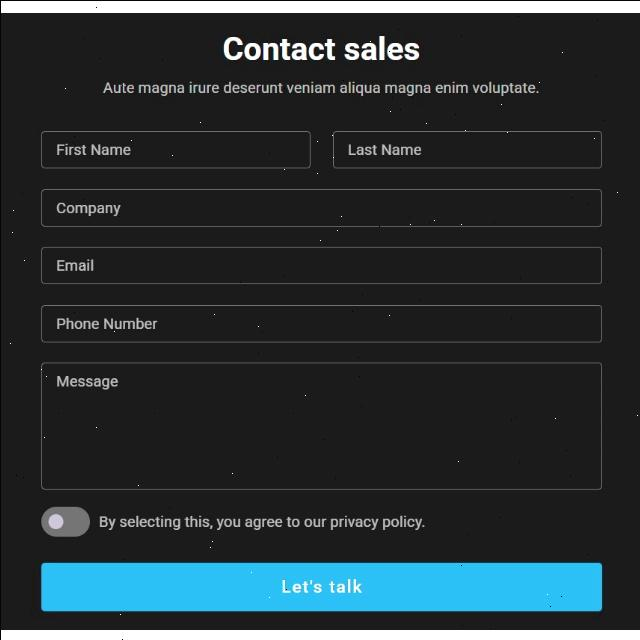QLabel: (100, 78, 540, 95), (223, 34, 419, 62), (97, 513, 425, 529), (280, 576, 362, 594)
VBtn: (39, 560, 602, 612)
VSwitch: (40, 505, 90, 535)
VTextField: (38, 301, 604, 343), (39, 185, 604, 227), (39, 243, 604, 284), (38, 127, 312, 169), (330, 128, 602, 168)
VTextarea: (39, 360, 603, 490)
